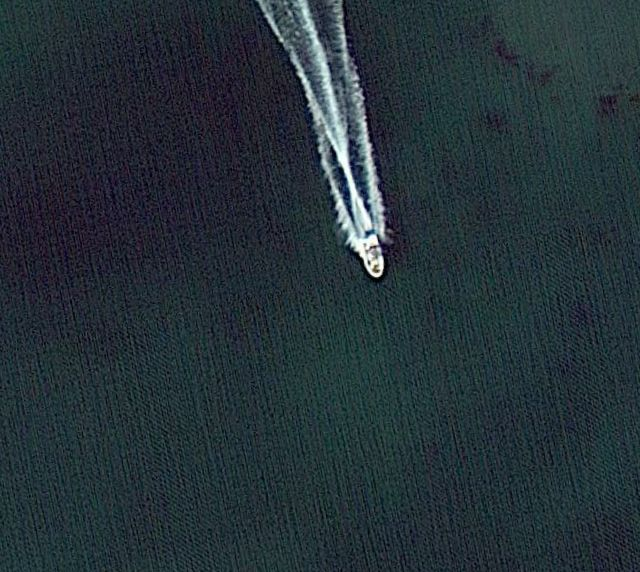boat: (349, 223, 391, 286)
